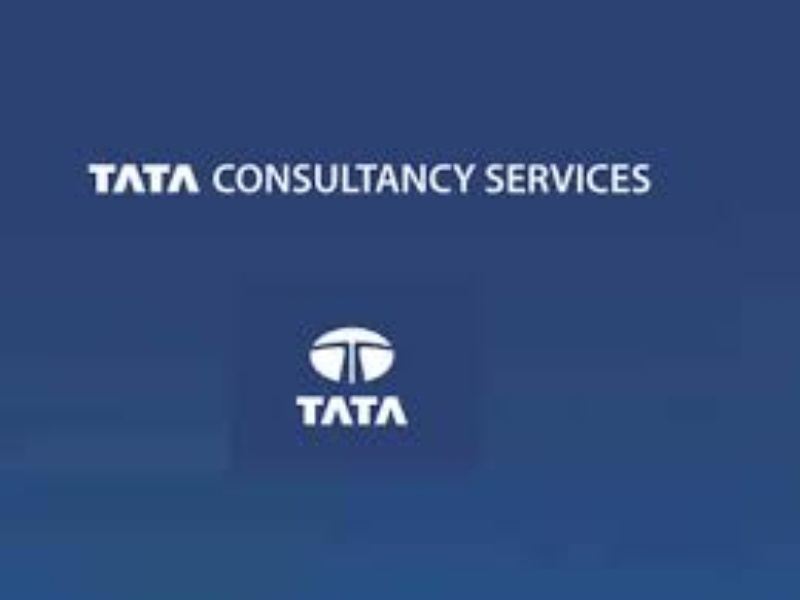tcs: (307, 324, 395, 386)
